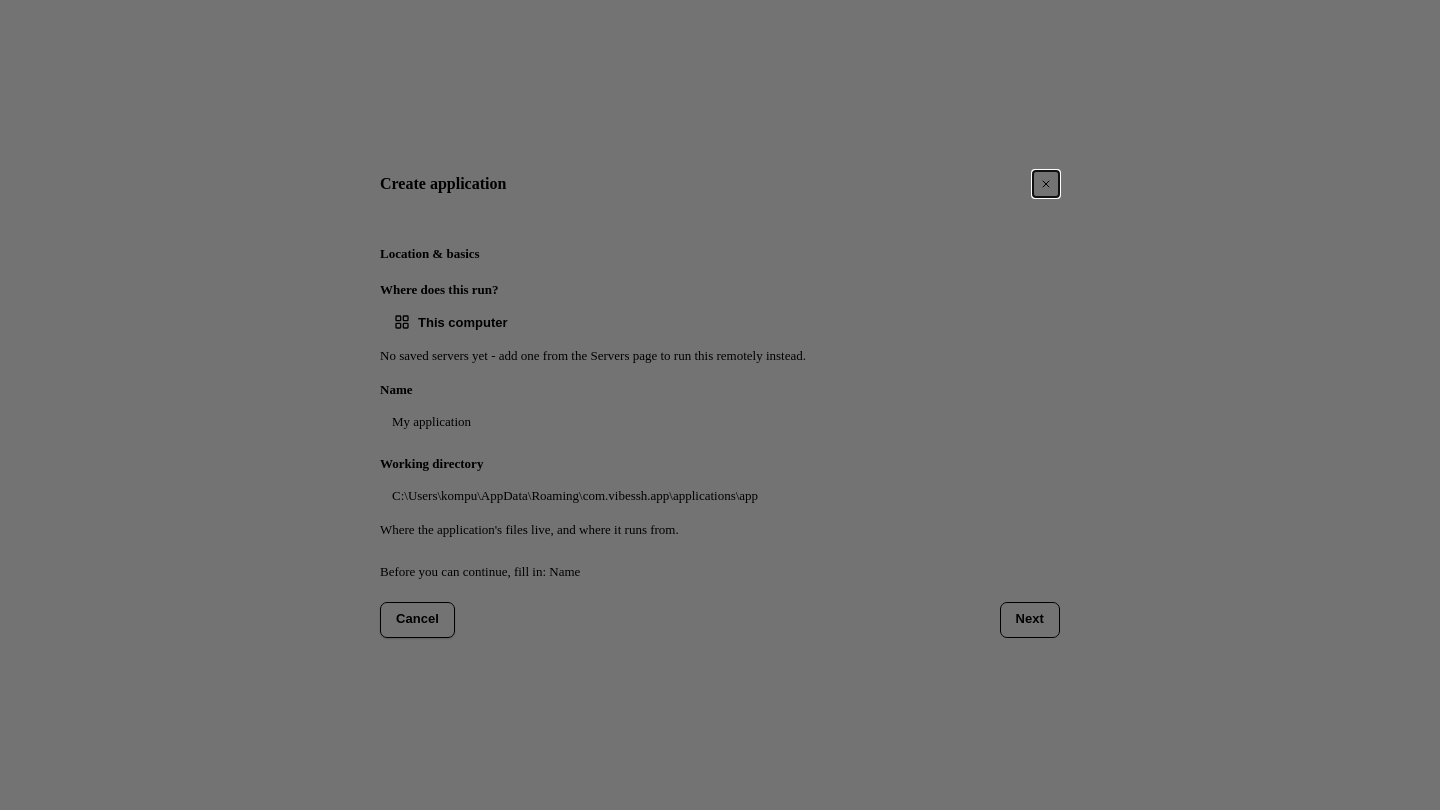
CreateApplicationWizard, when it will not continue › says nothing once the step is complete
Expected: the field showing "com.vibessh.app" is shown, [380,478,1060,514]
In the field with placeholder "My application": (720, 422) [380,404,1060,440], type "paper"
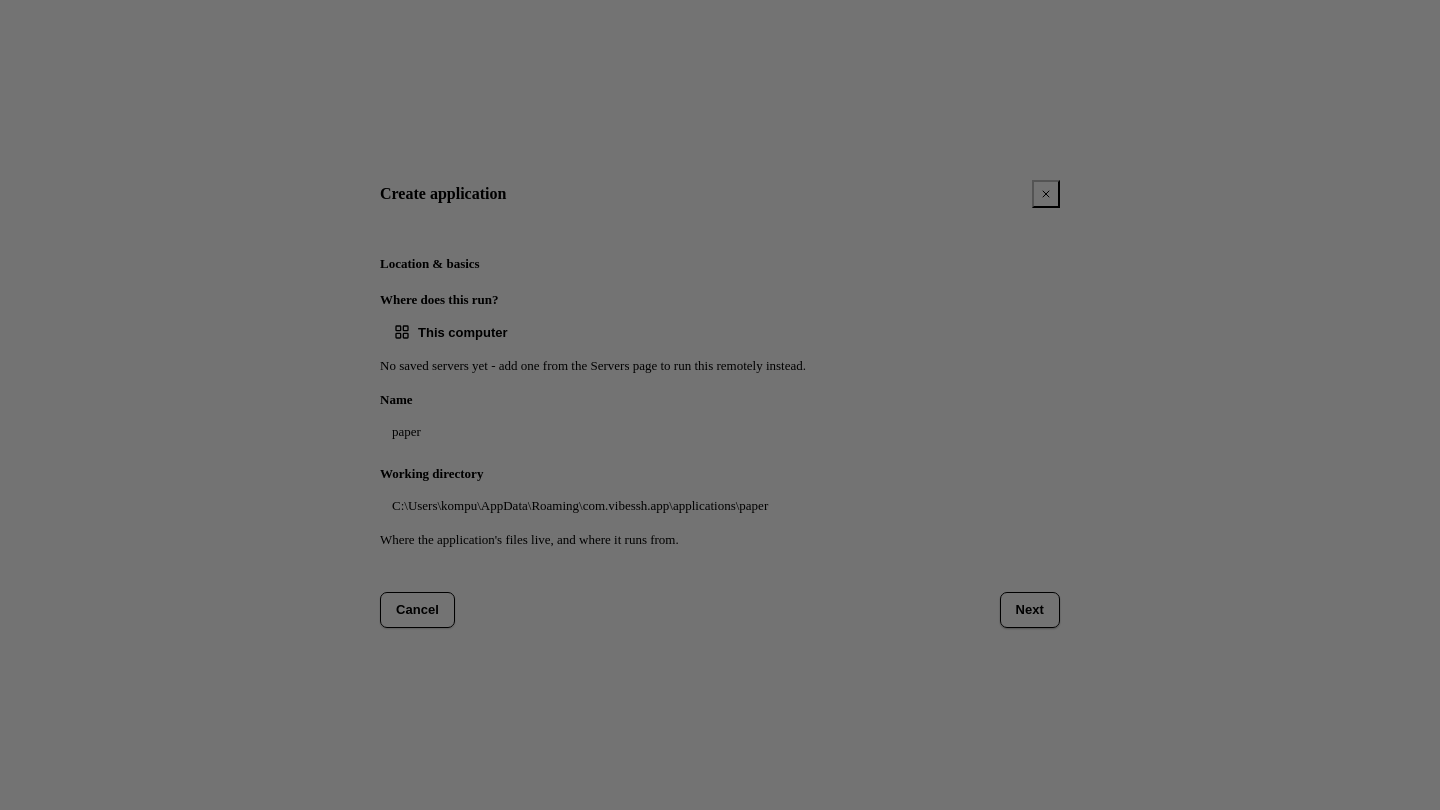
Expected: the text "Before you can continue, fill in:" is gone
Expected: the button "Next" is enabled, [1000,592,1060,628]
